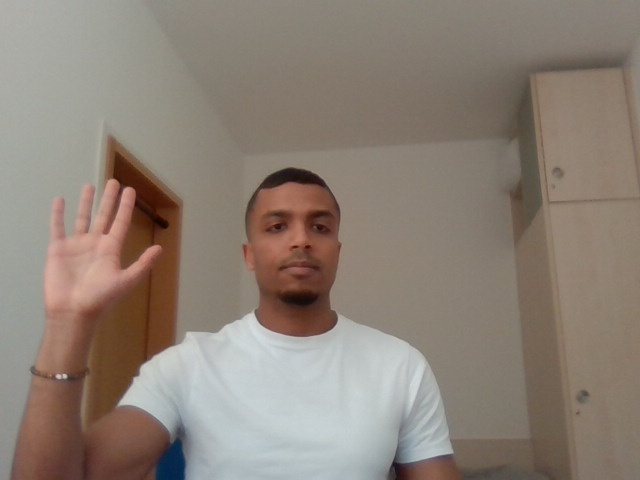hello: (36, 158, 178, 334)
